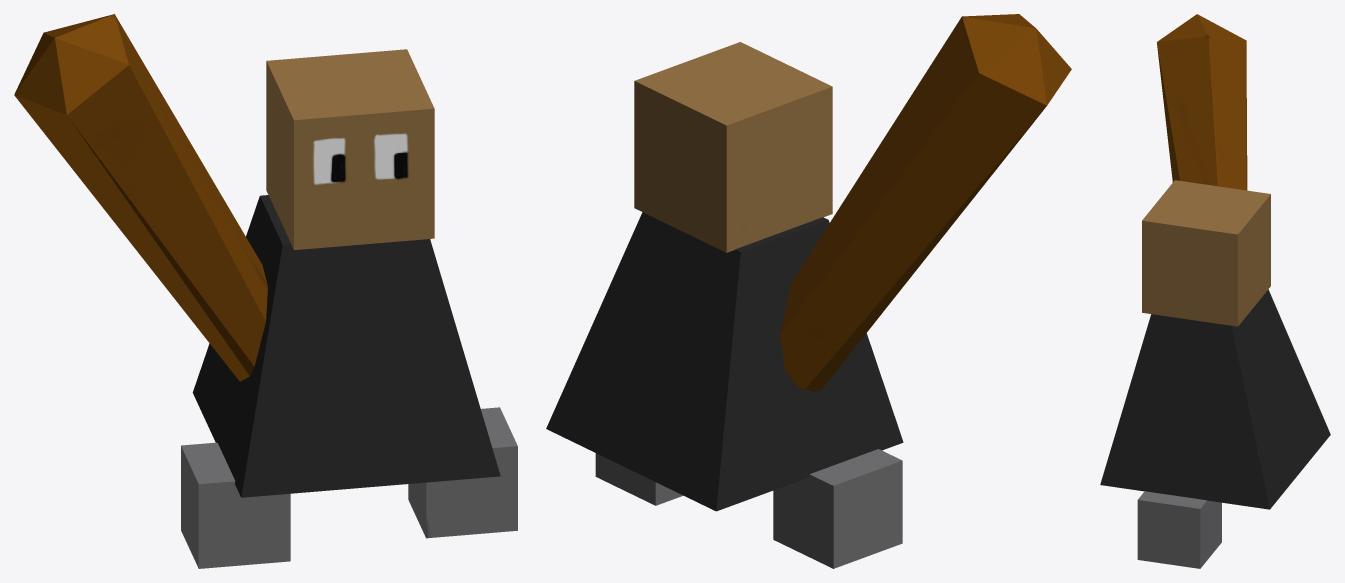
Rendered from UNIT.glb.
The picture shows the model from 3 angles, left to right: view 1: azimuth 30°, elevation 25°; view 2: azimuth 150°, elevation 25°; view 3: azimuth 270°, elevation 25°; orthographic projection. The views are drawn at different scales.
Visible parts, largest first — view 1: Cube; view 2: Cube; view 3: Cube.
Boxes of the visible parts, x1=… form: Cube: x1=14, y1=14, x2=517, y2=568; Cube: x1=546, y1=14, x2=1071, y2=568; Cube: x1=1100, y1=14, x2=1330, y2=568.
Size of the model in its own units: 3.33 by 3.8 by 1.98.
1 material, 1 textured.
